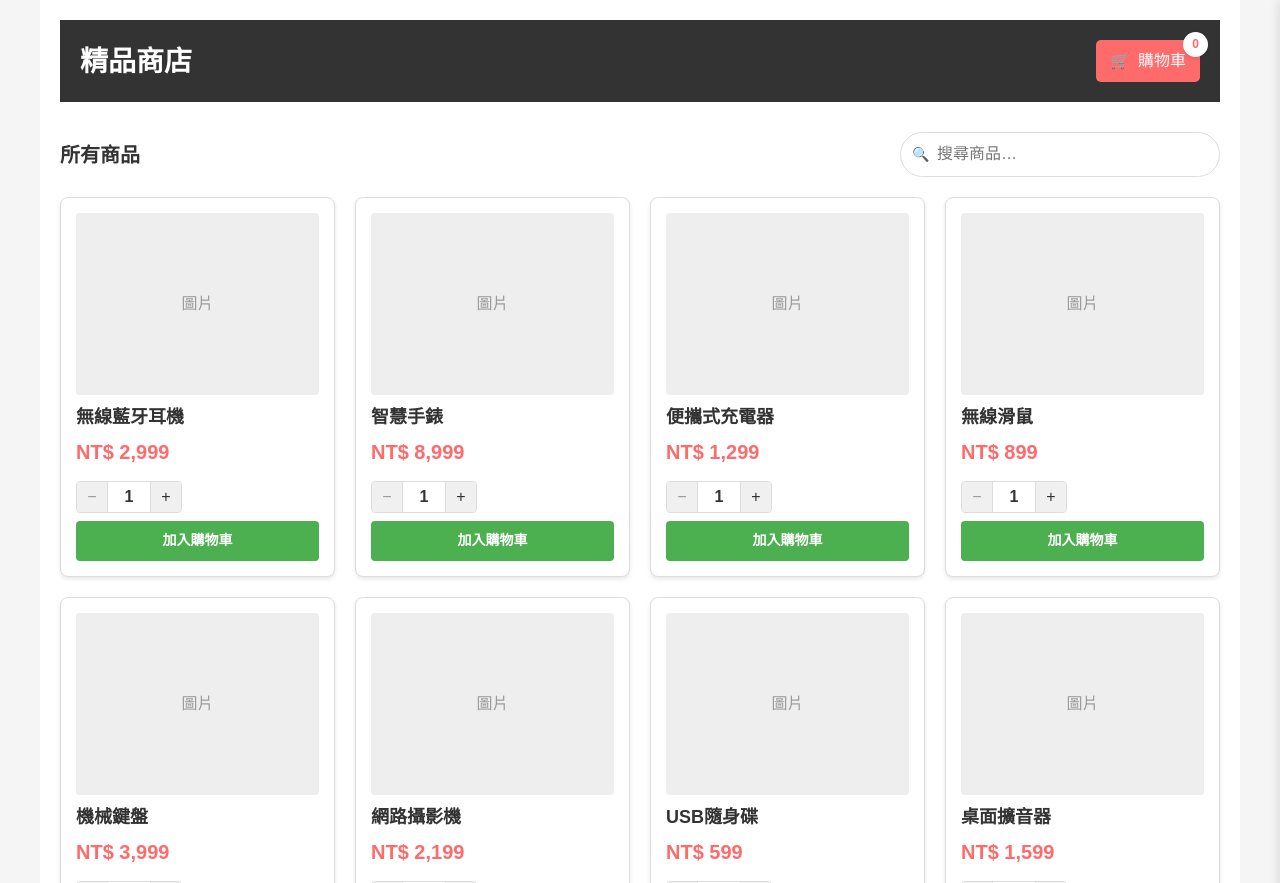
Shop › notifies and updates the cart badge when adding multiple units
The image size is (1280, 883).
expect the heading "智慧手錶" is shown: met, box [371,407,443,427]
Click the button named "增加數量" at (1051, 497), box [1036,482,1066,512]
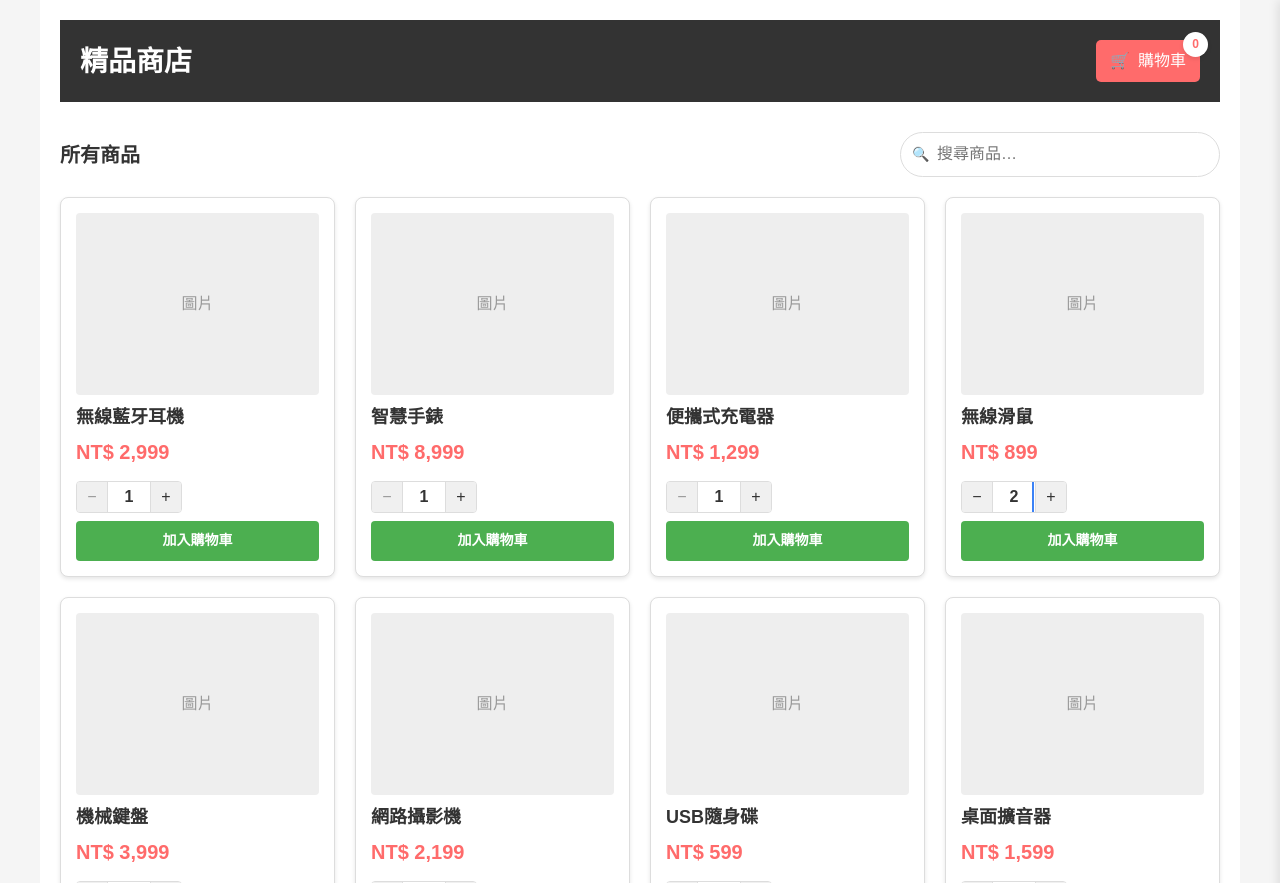
Click the button named "增加數量" at (1051, 497), box [1036,482,1066,512]
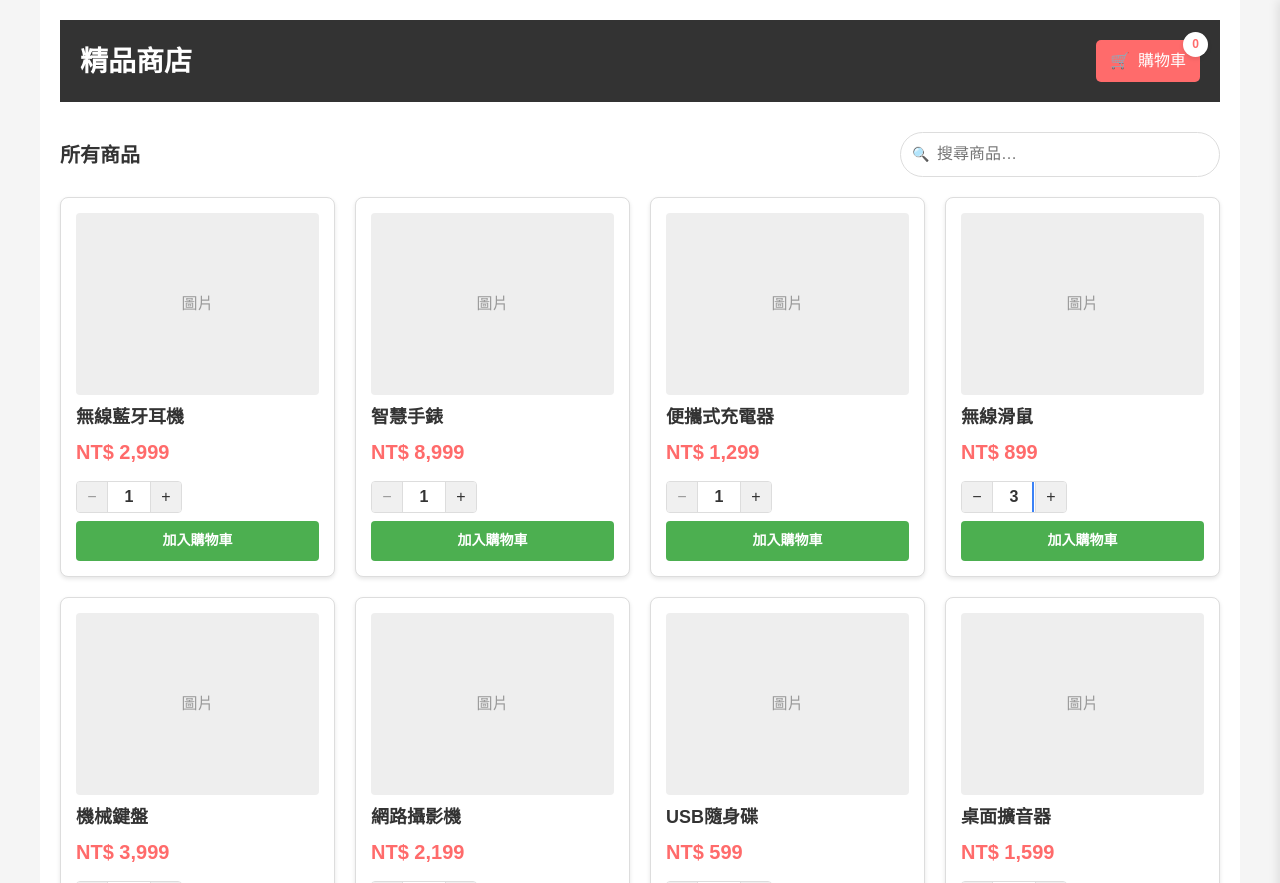
Click the button "加入購物車" below "NT$ 899" at (1082, 541), box [961,521,1204,561]
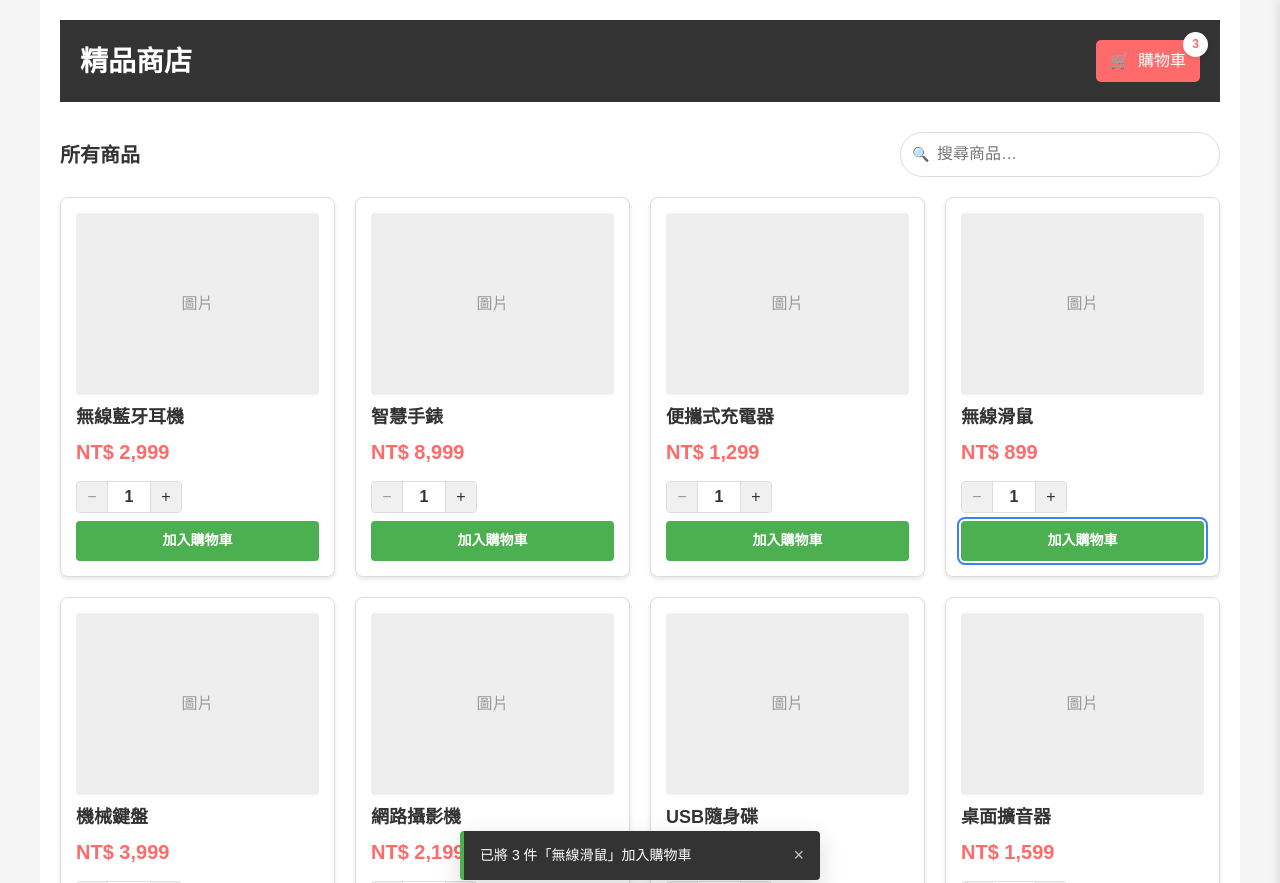
expect the text "已將 3 件「無線滑鼠」加入購物車" is shown: met, box [480,847,692,863]
expect the button with aria-label "購物車，共 3 件商品" is shown: met, box [1096,40,1200,82]
